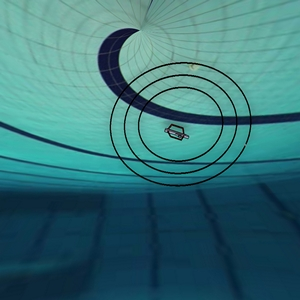circle: (103, 56, 259, 196)
submarine: (161, 117, 194, 147)
